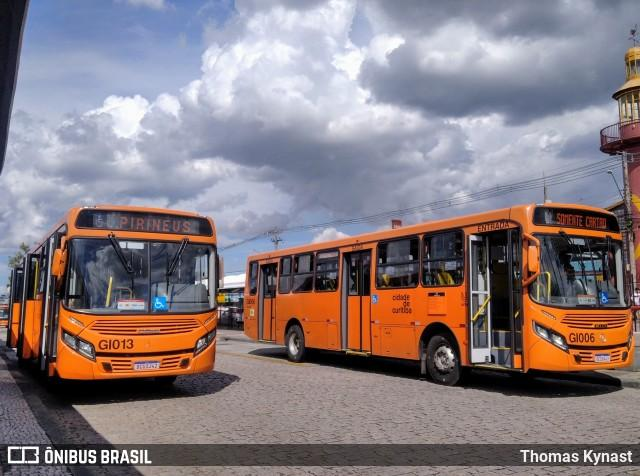PIRINEUS: (115, 212, 196, 236)
